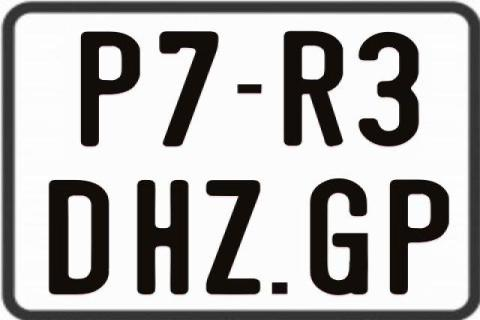0: (157, 29, 222, 145), (360, 31, 422, 145)
D: (48, 178, 112, 296)
G: (308, 178, 370, 298)
H: (138, 180, 188, 294)
P: (80, 32, 142, 147), (390, 178, 449, 298)
R: (281, 30, 343, 146)
Z: (204, 179, 258, 293)
